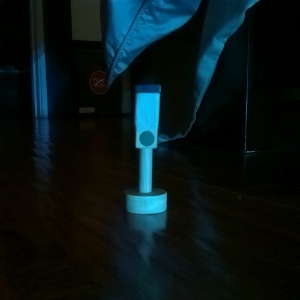traffic light green: (119, 81, 168, 216)
